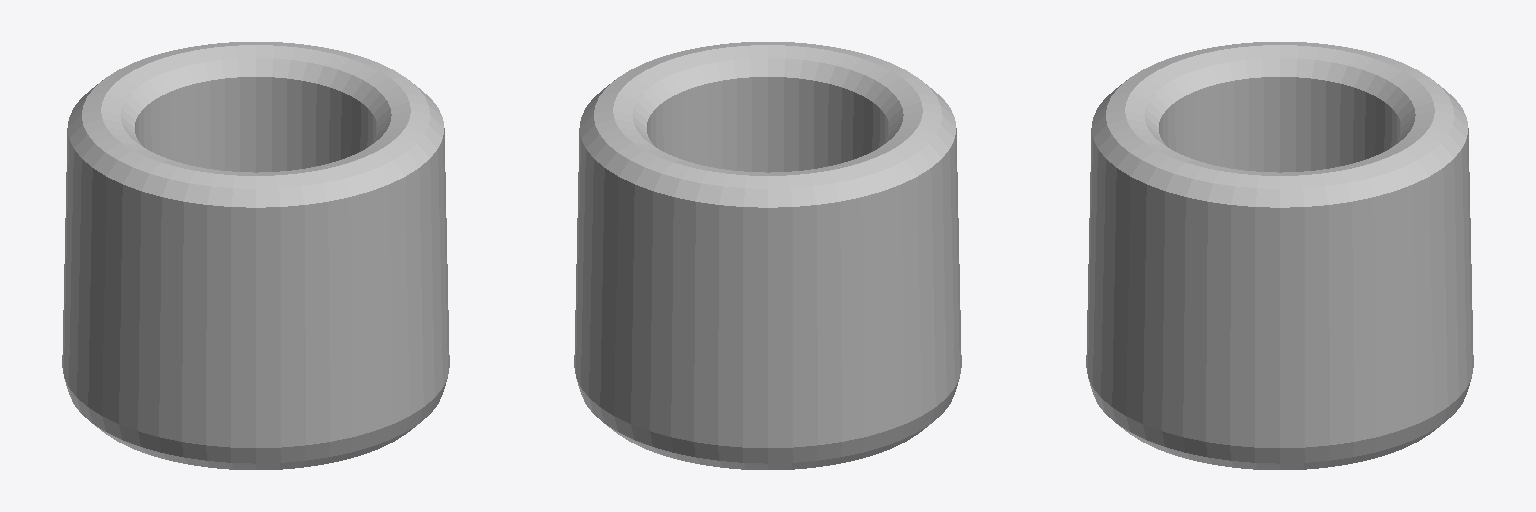
Rendered from barrier.obj.
The picture shows the model from 3 angles: view 1: azimuth 30°, elevation 25°; view 2: azimuth 150°, elevation 25°; view 3: azimuth 270°, elevation 25°; orthographic projection.
Visible parts, largest first — view 1: Torus; view 2: Torus; view 3: Torus.
Part boxes in pixels (bbox=[...]): Torus: bbox=[62, 42, 449, 469]; Torus: bbox=[574, 42, 961, 469]; Torus: bbox=[1086, 42, 1473, 469].
Size of the model in its own units: 12.41 by 10.28 by 12.41.